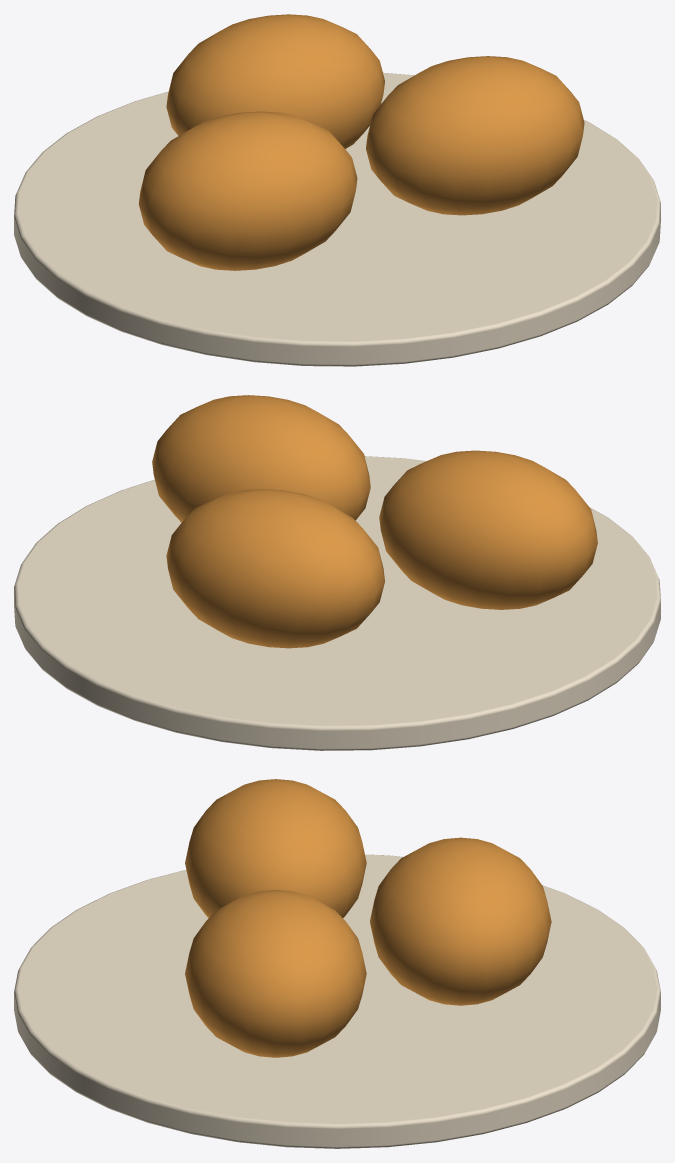
Rendered from PR_BreadPlate.glb.
3 renders of one model, top to bottom at view 1: azimuth 30°, elevation 25°; view 2: azimuth 150°, elevation 25°; view 3: azimuth 270°, elevation 25°, orthographic.
Visible parts, largest first — view 1: PR_BreadPlate_LOD0; view 2: PR_BreadPlate_LOD0; view 3: PR_BreadPlate_LOD0.
Part boxes in pixels (<box>): PR_BreadPlate_LOD0: <box>14,14,660,366</box>; PR_BreadPlate_LOD0: <box>14,395,660,750</box>; PR_BreadPlate_LOD0: <box>14,779,660,1148</box>.
Size of the model in its own units: 0.42 by 0.115 by 0.42.
Materials: 1 (1 with a texture image).
